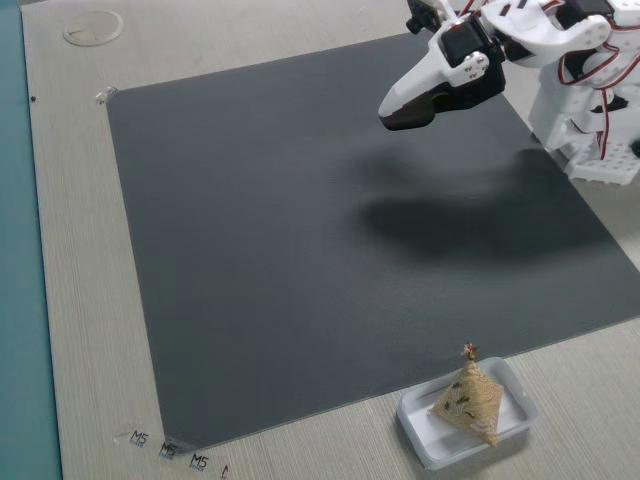gripper: (369, 16, 514, 130)
